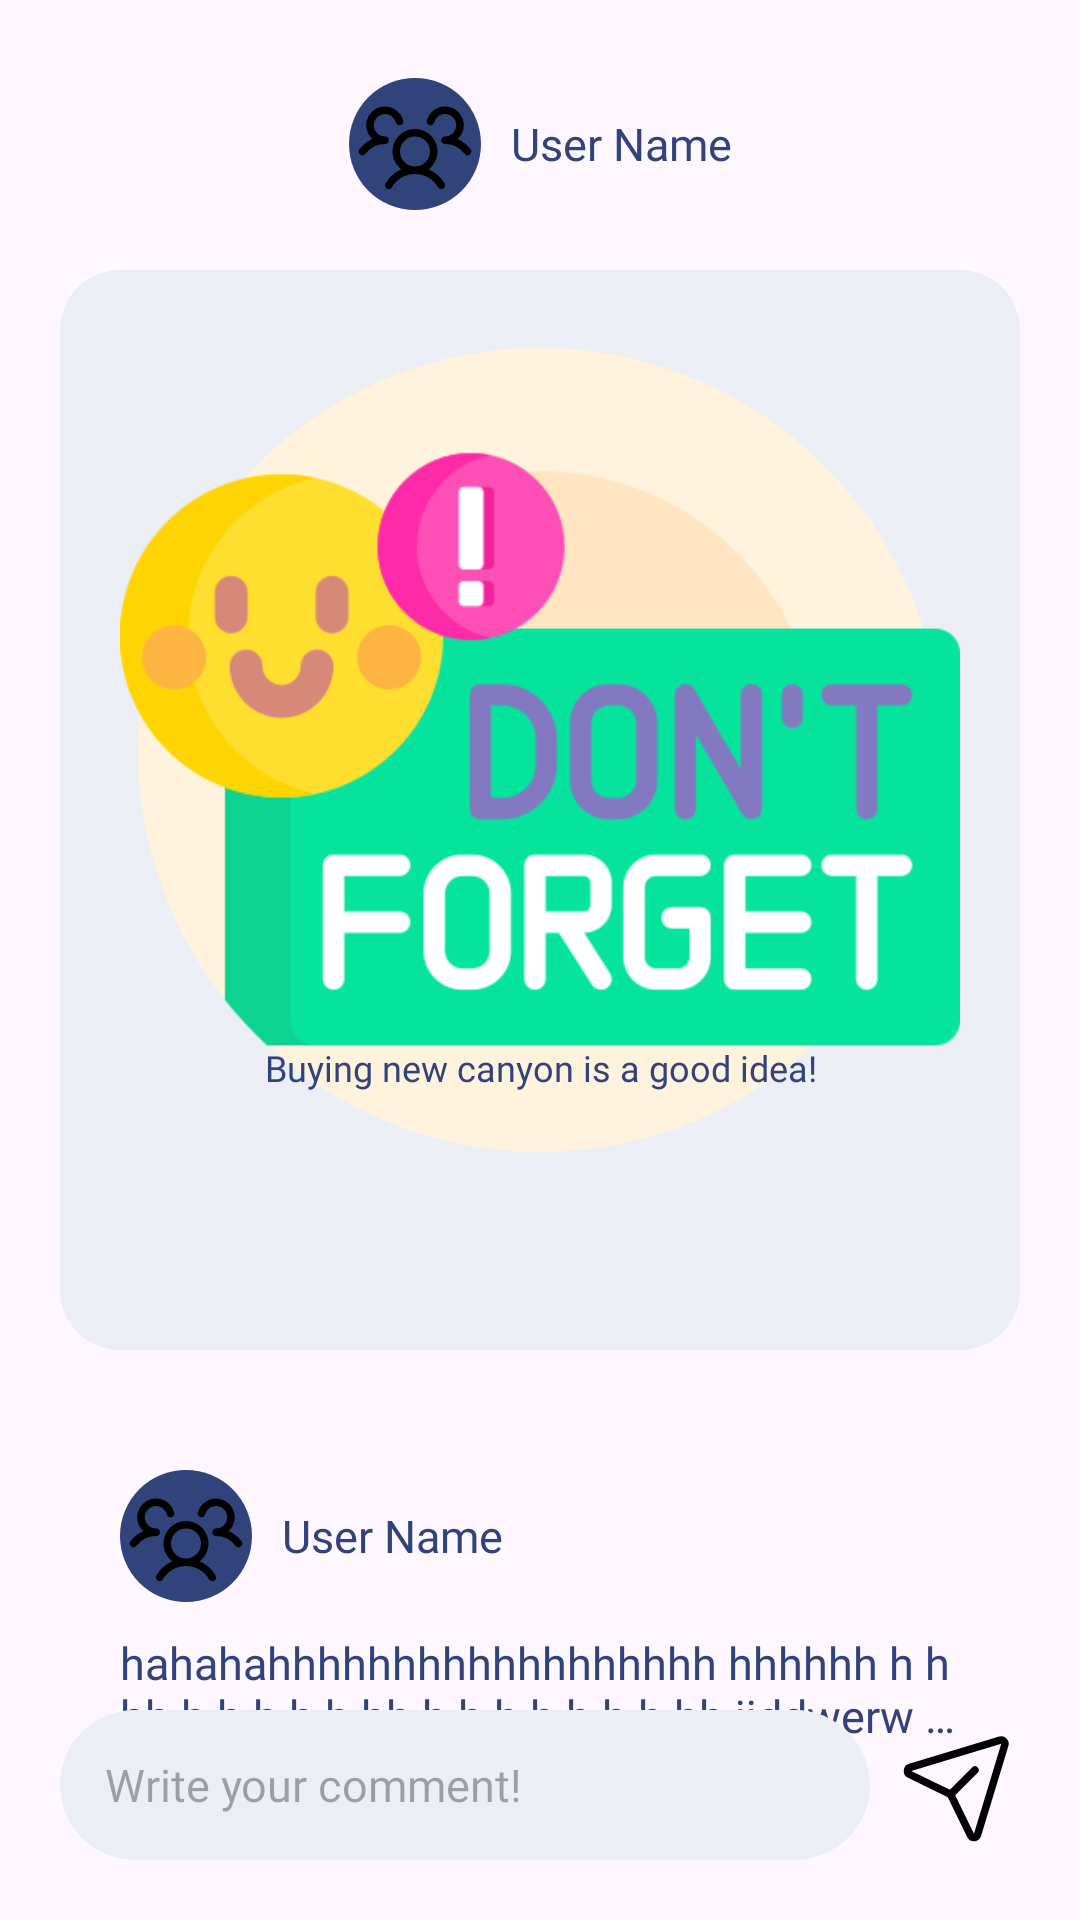

Where to tap for icons on this 1080*1920 app screen, as (x,y):
paper plane tilt: (956,1785)
users three: (415,144), (186,1536)
